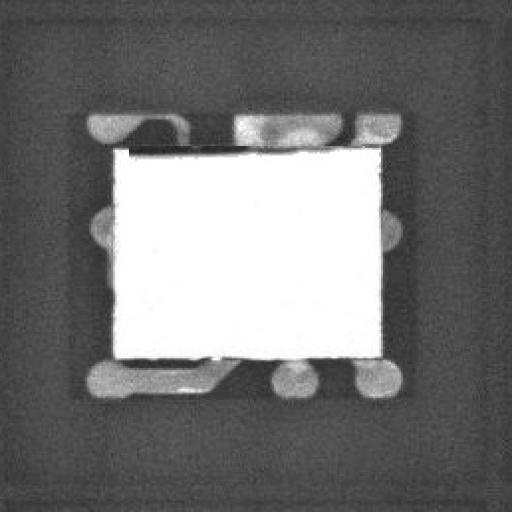DIE_BROKEN: (123, 136, 258, 158)
